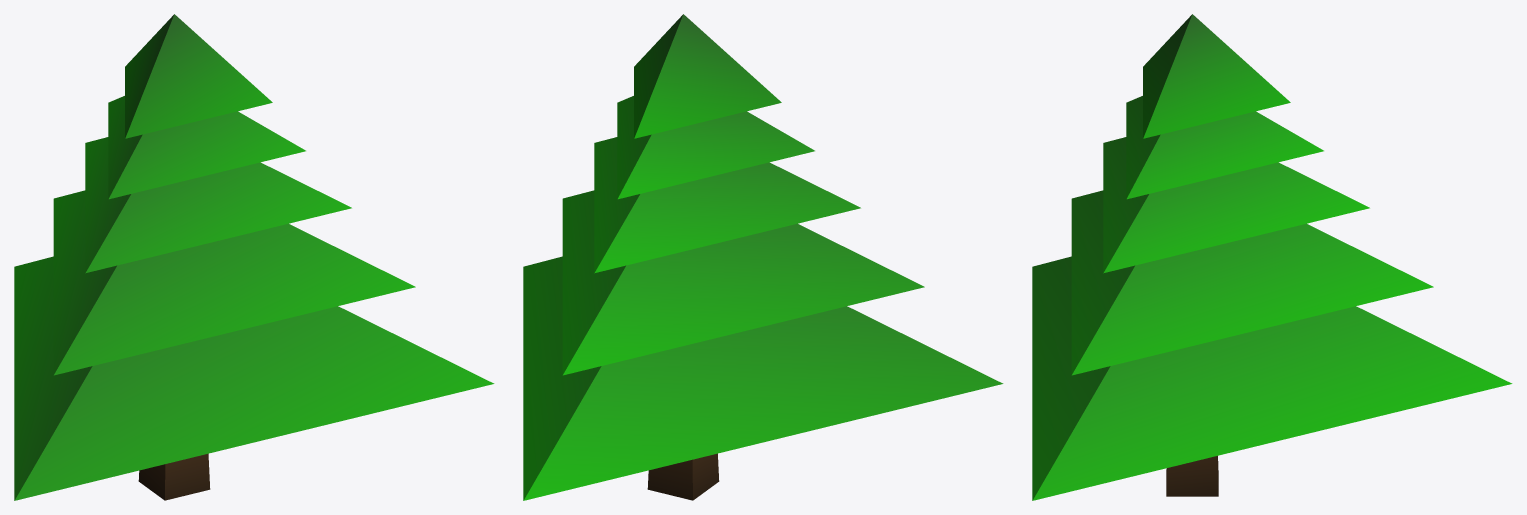
Rendered from fir.glb.
3 renders of one model, left to right at view 1: azimuth 30°, elevation 25°; view 2: azimuth 150°, elevation 25°; view 3: azimuth 270°, elevation 25°, orthographic.
Parts seen in each view (by area): view 1: Cone, Cone.001, Cone.002, Cone.004, Cone.003, Cube.002; view 2: Cone, Cone.001, Cone.002, Cone.004, Cone.003, Cube.002; view 3: Cone, Cone.001, Cone.002, Cone.004, Cone.003, Cube.002.
Part boxes in pixels (x1=…): Cone: x1=14, y1=256, x2=494, y2=500; Cone.001: x1=53, y1=190, x2=415, y2=375; Cone.002: x1=85, y1=137, x2=351, y2=273; Cone.004: x1=125, y1=14, x2=272, y2=138; Cone.003: x1=108, y1=96, x2=305, y2=199; Cube.002: x1=138, y1=453, x2=210, y2=500; Cone: x1=523, y1=256, x2=1003, y2=500; Cone.001: x1=562, y1=190, x2=924, y2=375; Cone.002: x1=594, y1=137, x2=860, y2=273; Cone.004: x1=634, y1=14, x2=781, y2=138; Cone.003: x1=617, y1=96, x2=814, y2=199; Cube.002: x1=647, y1=453, x2=719, y2=500; Cone: x1=1032, y1=256, x2=1512, y2=500; Cone.001: x1=1071, y1=190, x2=1433, y2=375; Cone.002: x1=1103, y1=137, x2=1369, y2=273; Cone.004: x1=1143, y1=14, x2=1290, y2=138; Cone.003: x1=1126, y1=96, x2=1323, y2=199; Cube.002: x1=1166, y1=456, x2=1218, y2=496.
Bounding box in the file's own units: 6.32 × 5.93 × 5.48.
